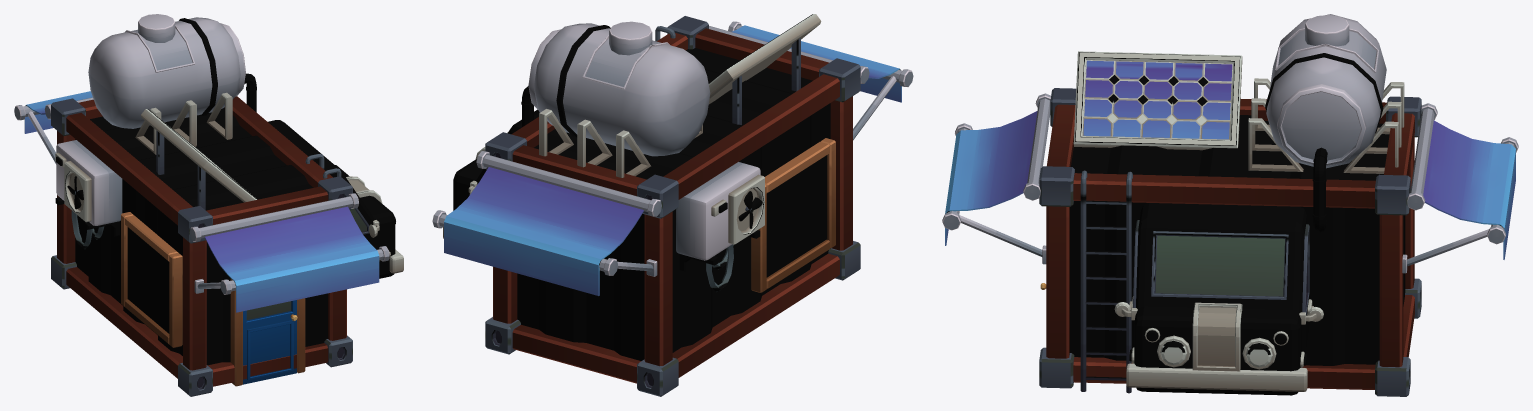
File: house7.fbx
3 renders of one model, left to right at view 1: azimuth 30°, elevation 25°; view 2: azimuth 150°, elevation 25°; view 3: azimuth 270°, elevation 25°, orthographic. The views are drawn at different scales.
Visible parts, largest first — view 1: finb_house_15.001; view 2: finb_house_15.001; view 3: finb_house_15.001.
Part boxes in pixels (bbox=[...]): finb_house_15.001: bbox=[14, 14, 403, 396]; finb_house_15.001: bbox=[432, 14, 913, 396]; finb_house_15.001: bbox=[942, 14, 1518, 396].
Size of the model in its own units: 490 by 478 by 777.
1 material, 1 textured.
